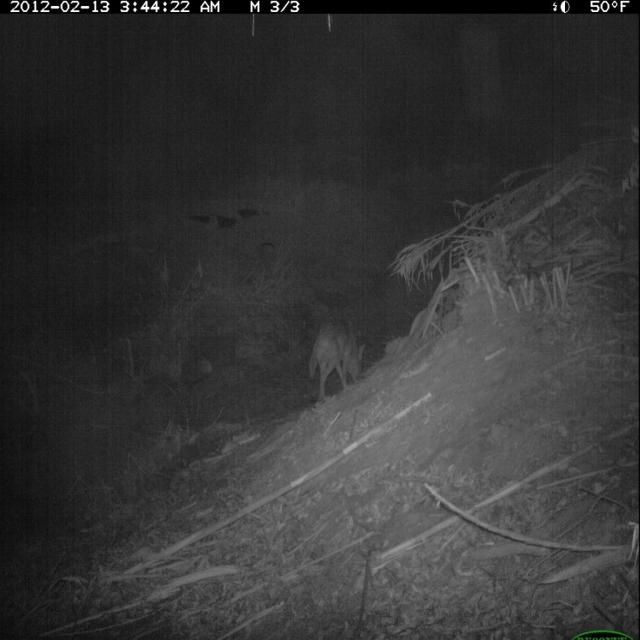coyote: (304, 311, 371, 412)
